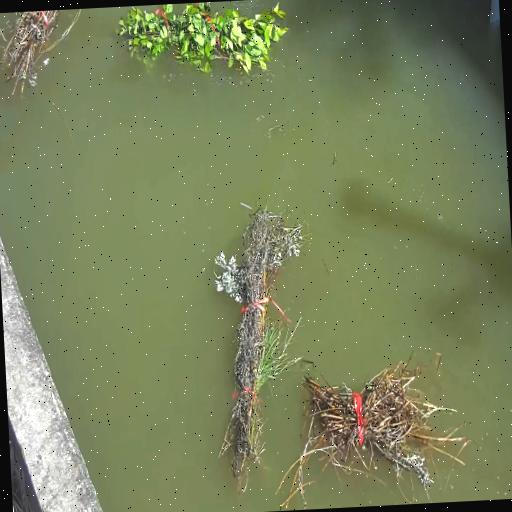twig: (215, 204, 309, 491), (278, 364, 459, 507), (119, 2, 288, 74), (0, 10, 70, 94)
